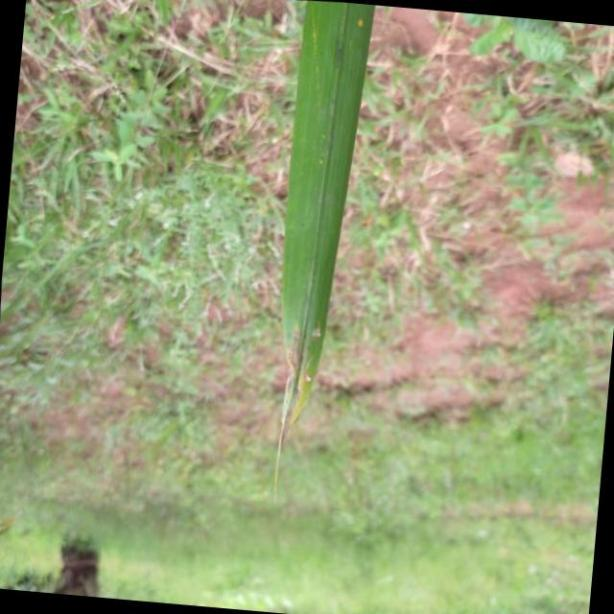Kalium: (260, 0, 381, 518)
